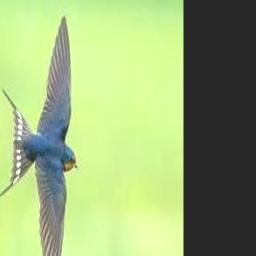Swallow: (0, 16, 79, 256)
